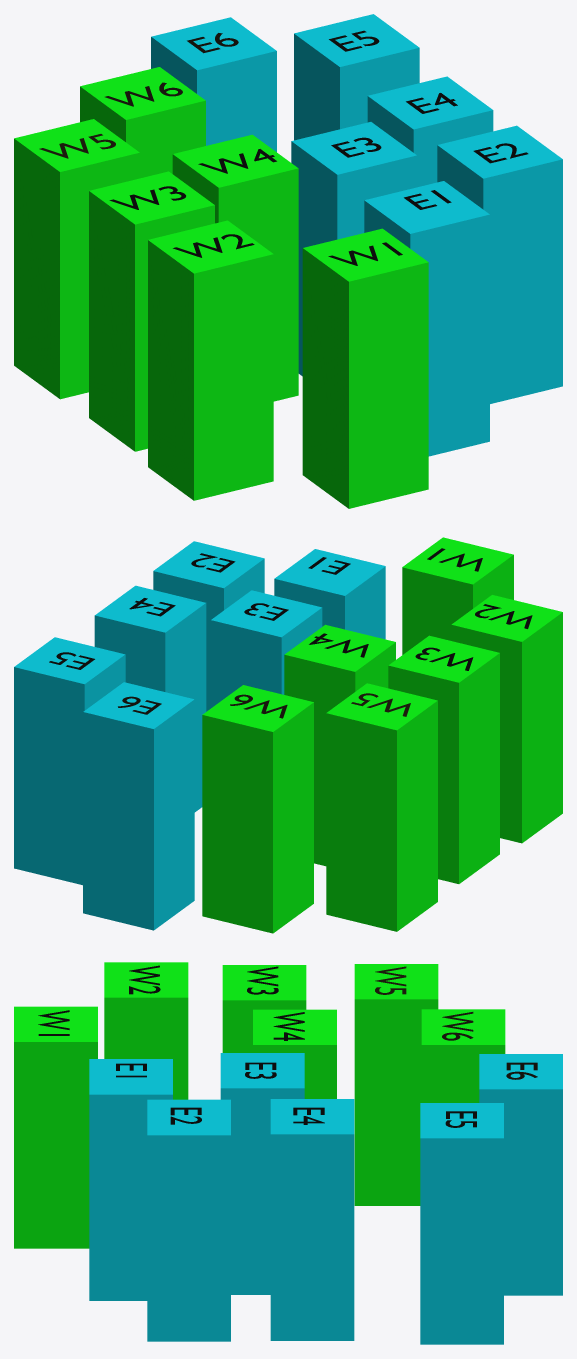
Rendered from campus.glb.
3 renders of one model, top to bottom at view 1: azimuth 30°, elevation 25°; view 2: azimuth 150°, elevation 25°; view 3: azimuth 270°, elevation 25°, orthographic. The views are drawn at different scales.
Parts seen in each view (by area): view 1: Cube.004, Cube.001, Cube.002, Cube.006, Cube.009, Cube, Cube.005, Cube.007, Cube.010, Cube.011, Cube.003, Cube.008; view 2: Cube.011, Cube.002, Cube.003, Cube.010, Cube, Cube.001, Cube.008, Cube.005, Cube.007, Cube.004, Cube.009, Cube.006; view 3: Cube.008, Cube.006, Cube.010, Cube.004, Cube.002, Cube.011, Cube.009, Cube.007, Cube.001, Cube.003, Cube.005, Cube.
Boxes of the visible parts, <box> form: Cube.004: <box>302,228,428,508</box>; Cube.001: <box>148,220,273,500</box>; Cube.002: <box>14,119,139,399</box>; Cube.006: <box>437,125,562,403</box>; Cube.009: <box>364,181,489,456</box>; Cube: <box>89,171,214,451</box>; Cube.005: <box>172,134,298,401</box>; Cube.007: <box>291,122,416,376</box>; Cube.010: <box>294,14,419,140</box>; Cube.011: <box>151,17,276,151</box>; Cube.003: <box>80,67,205,178</box>; Cube.008: <box>367,76,493,187</box>; Cube.011: <box>83,682,194,930</box>; Cube.002: <box>326,683,437,931</box>; Cube.003: <box>202,685,313,933</box>; Cube.010: <box>14,637,125,885</box>; Cube: <box>388,635,499,883</box>; Cube.001: <box>451,595,562,843</box>; Cube.008: <box>94,585,206,812</box>; Cube.005: <box>284,624,395,866</box>; Cube.007: <box>211,590,322,707</box>; Cube.004: <box>402,537,513,654</box>; Cube.009: <box>274,549,385,639</box>; Cube.006: <box>153,541,264,711</box>; Cube.008: <box>270,1099,354,1340</box>; Cube.006: <box>147,1099,230,1341</box>; Cube.010: <box>420,1103,503,1344</box>; Cube.004: <box>14,1006,97,1248</box>; Cube.002: <box>354,964,438,1205</box>; Cube.011: <box>479,1054,562,1295</box>; Cube.009: <box>89,1059,172,1300</box>; Cube.007: <box>220,1053,304,1294</box>; Cube.001: <box>104,962,188,1099</box>; Cube.003: <box>421,1009,505,1102</box>; Cube.005: <box>253,1009,336,1098</box>; Cube: <box>222,965,306,1052</box>.
Size of what is drawn, in the model's own units: 9.22 by 5.19 by 12.07.
